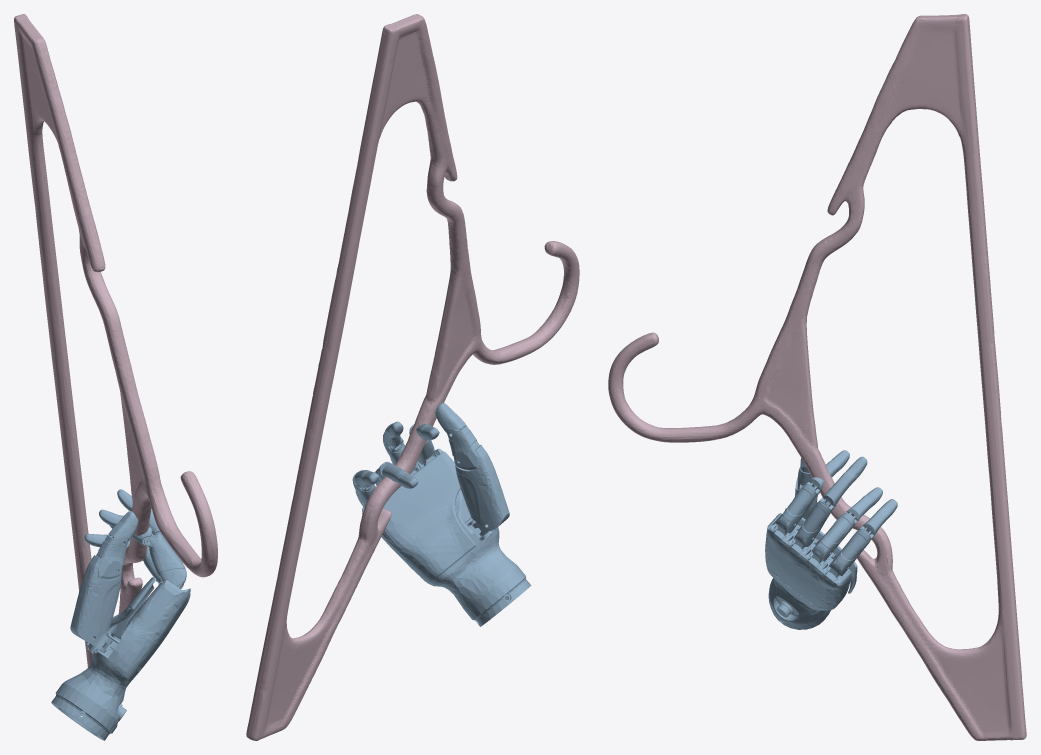
The picture shows the model from 3 angles, left to right: view 1: azimuth 30°, elevation 25°; view 2: azimuth 150°, elevation 25°; view 3: azimuth 270°, elevation 25°; orthographic projection. The views are drawn at different scales.
Visible parts, largest first — view 1: obj_mesh_grasp_5.obj, world; view 2: obj_mesh_grasp_5.obj, world; view 3: obj_mesh_grasp_5.obj, world.
Part boxes in pixels (bbox=[...]): obj_mesh_grasp_5.obj: bbox=[14, 14, 217, 667]; world: bbox=[51, 489, 190, 740]; obj_mesh_grasp_5.obj: bbox=[246, 14, 579, 740]; world: bbox=[352, 403, 531, 626]; obj_mesh_grasp_5.obj: bbox=[608, 14, 1026, 740]; world: bbox=[765, 450, 897, 629].
Bounding box in the file's own units: 0.1474 × 0.6253 × 0.3492.
